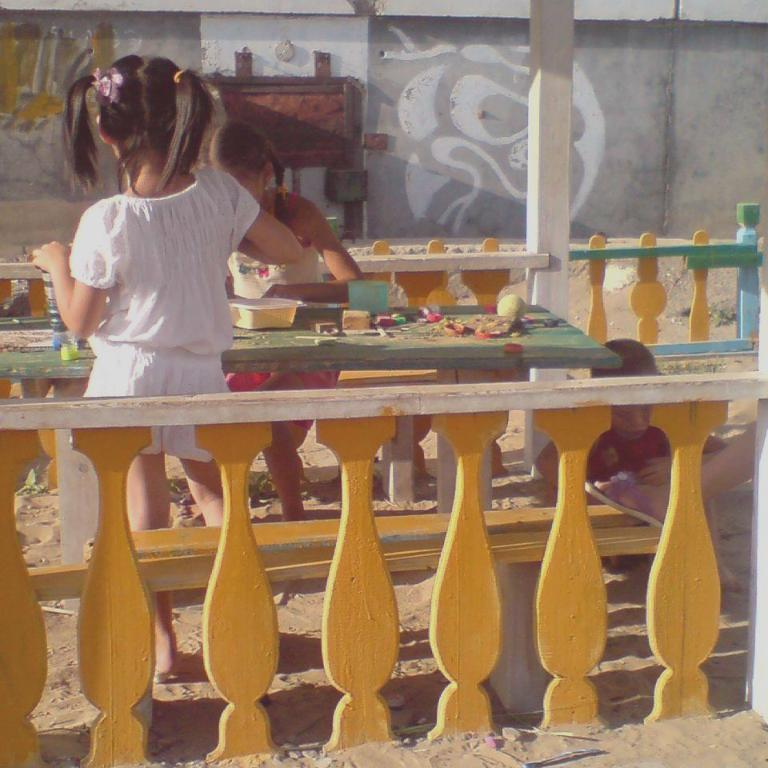Table: (0, 282, 731, 555)
